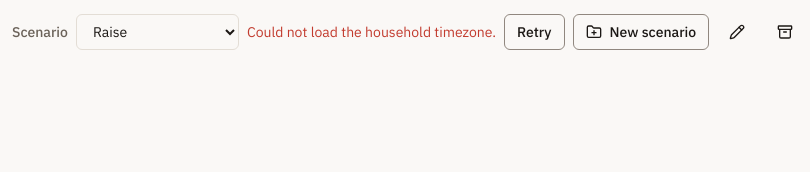
Test: the picker waits for the household date (5ie.18, AC8) › a failed read says so, keeps the selection, and Retry reads it again without writing
This screenshot has width=810, height=172.
Expected: the message reads "Could not load the household timezone.", top-left (247, 23), bottom-right (496, 41)
Click the button "Retry" at coordinates (534, 32), box top-left (504, 14), bottom-right (564, 50)
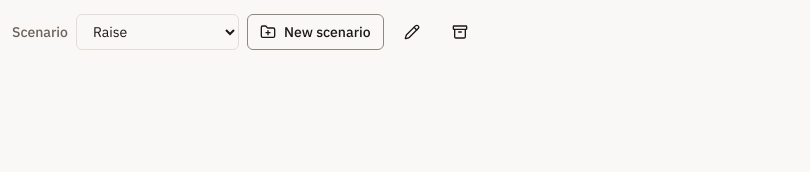
Result: the message "Could not load the household timezone." is gone
